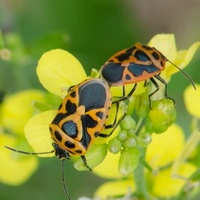insect: (0, 34, 199, 199), (24, 79, 110, 199), (101, 34, 199, 85)
